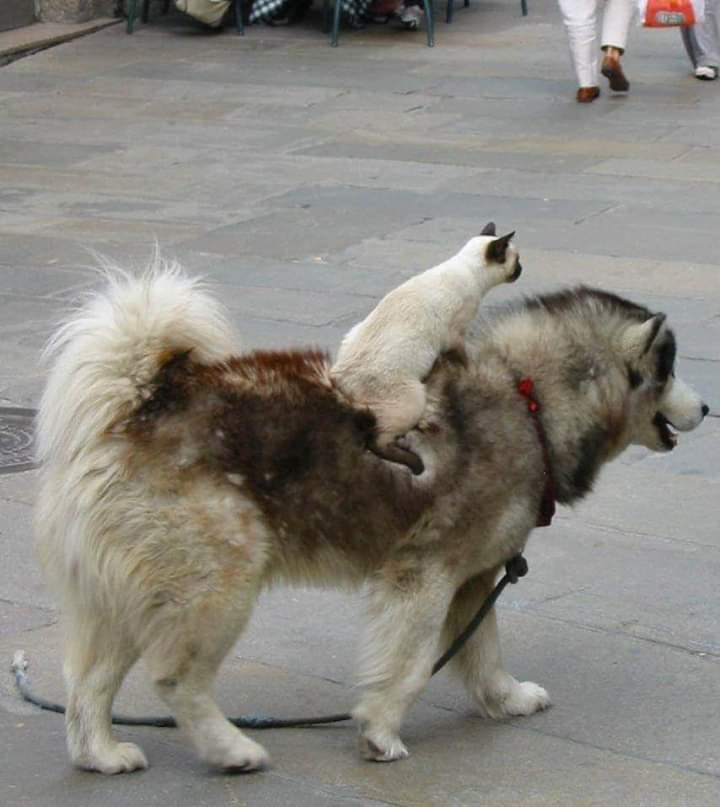Cat: (335, 219, 536, 483)
Dog: (5, 272, 720, 775)
